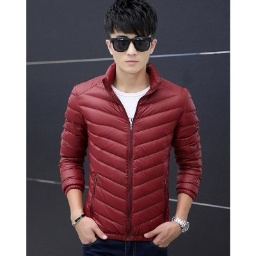face: (102, 1, 162, 76)
